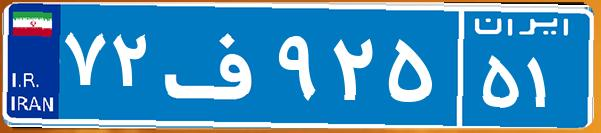1: (525, 38, 570, 115)
2: (330, 28, 385, 110), (110, 28, 158, 105)
5: (385, 28, 445, 110), (475, 38, 525, 113)
7: (57, 26, 110, 107)
9: (273, 28, 330, 110)
ف: (158, 15, 273, 115)
